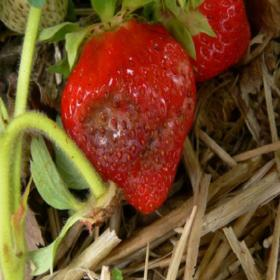Anthracnose Fruit Rot: (66, 52, 196, 201)
